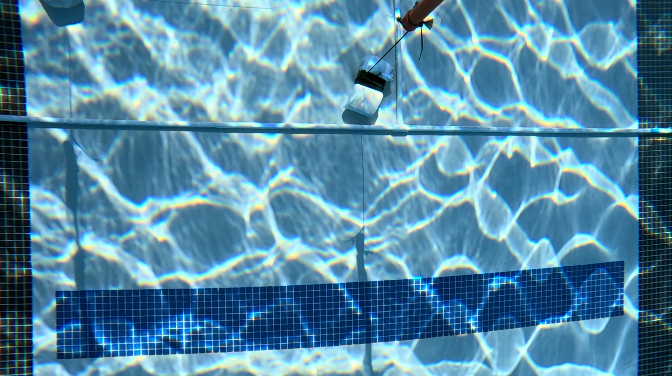sandbag: (347, 57, 399, 117)
